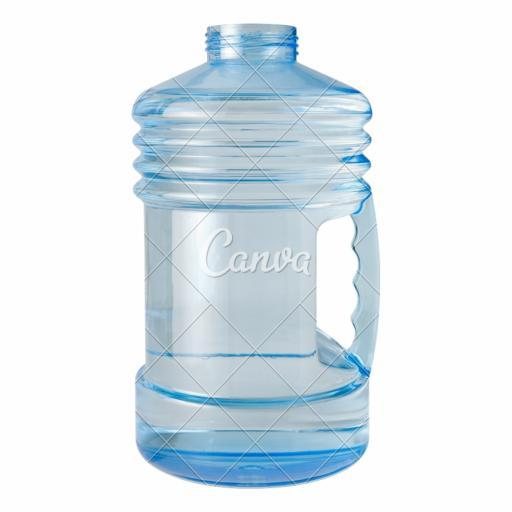bottle: (123, 16, 385, 488)
